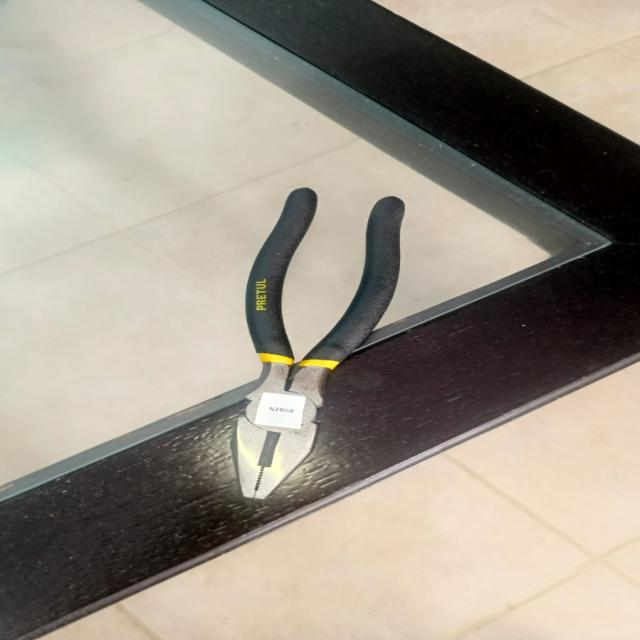alicate: (187, 166, 406, 516)
